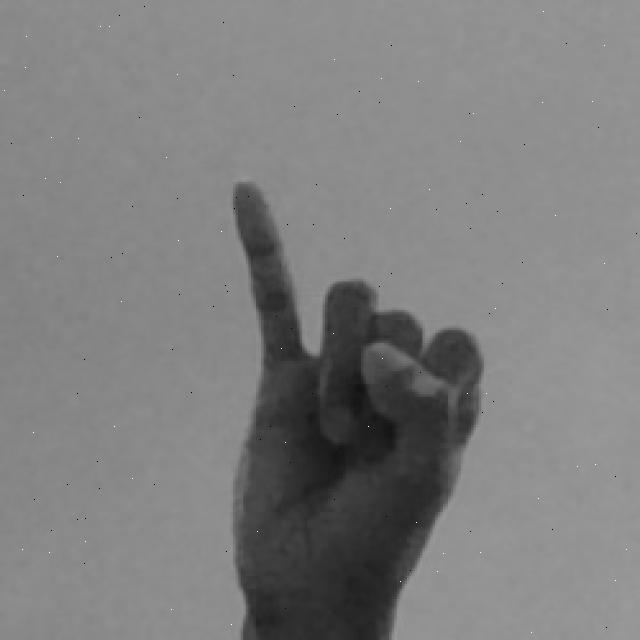I: (226, 176, 490, 640)
